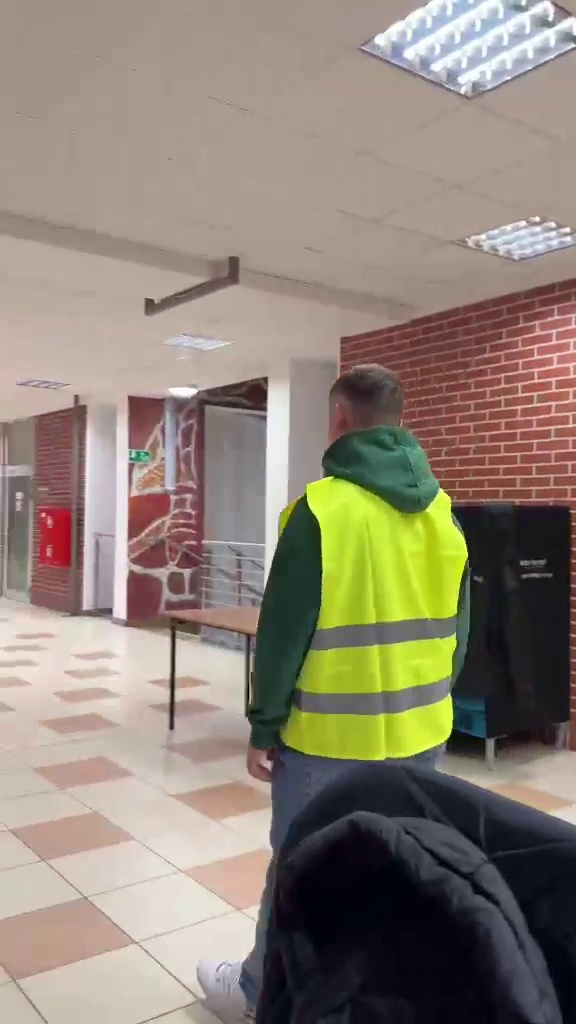vest: (250, 360, 475, 764)
